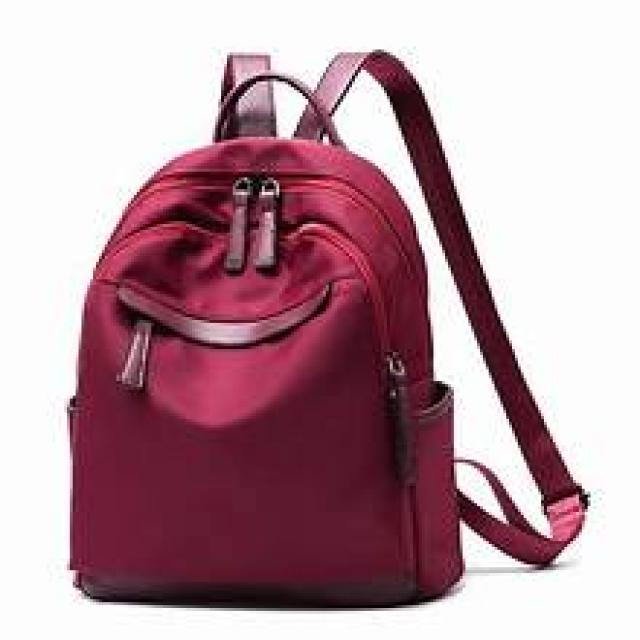backpack: (65, 48, 592, 609)
